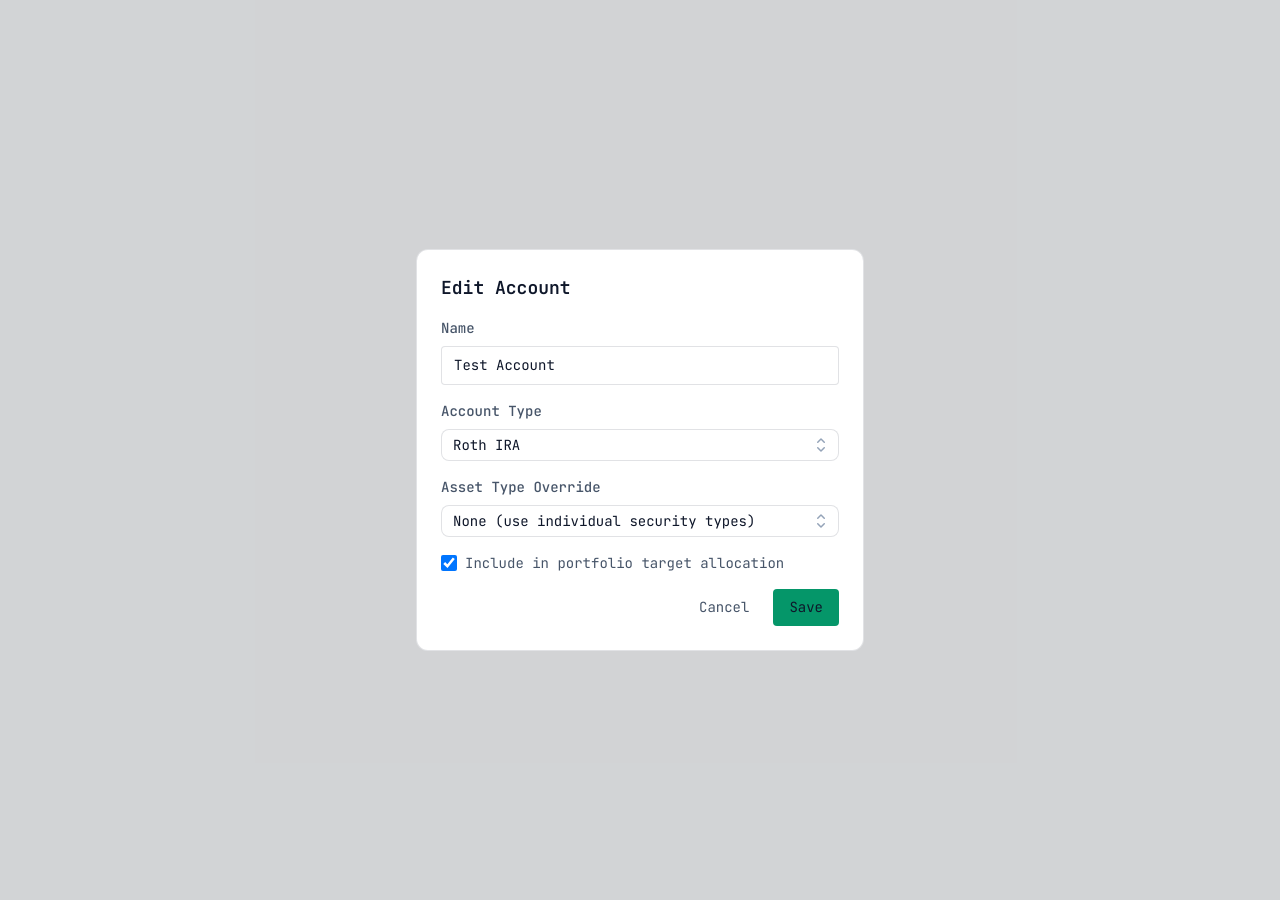
Test case: EditAccountDialog › shows error for empty name
Clear the field with test id "edit-account-name": (640, 366) [441, 346, 839, 385]
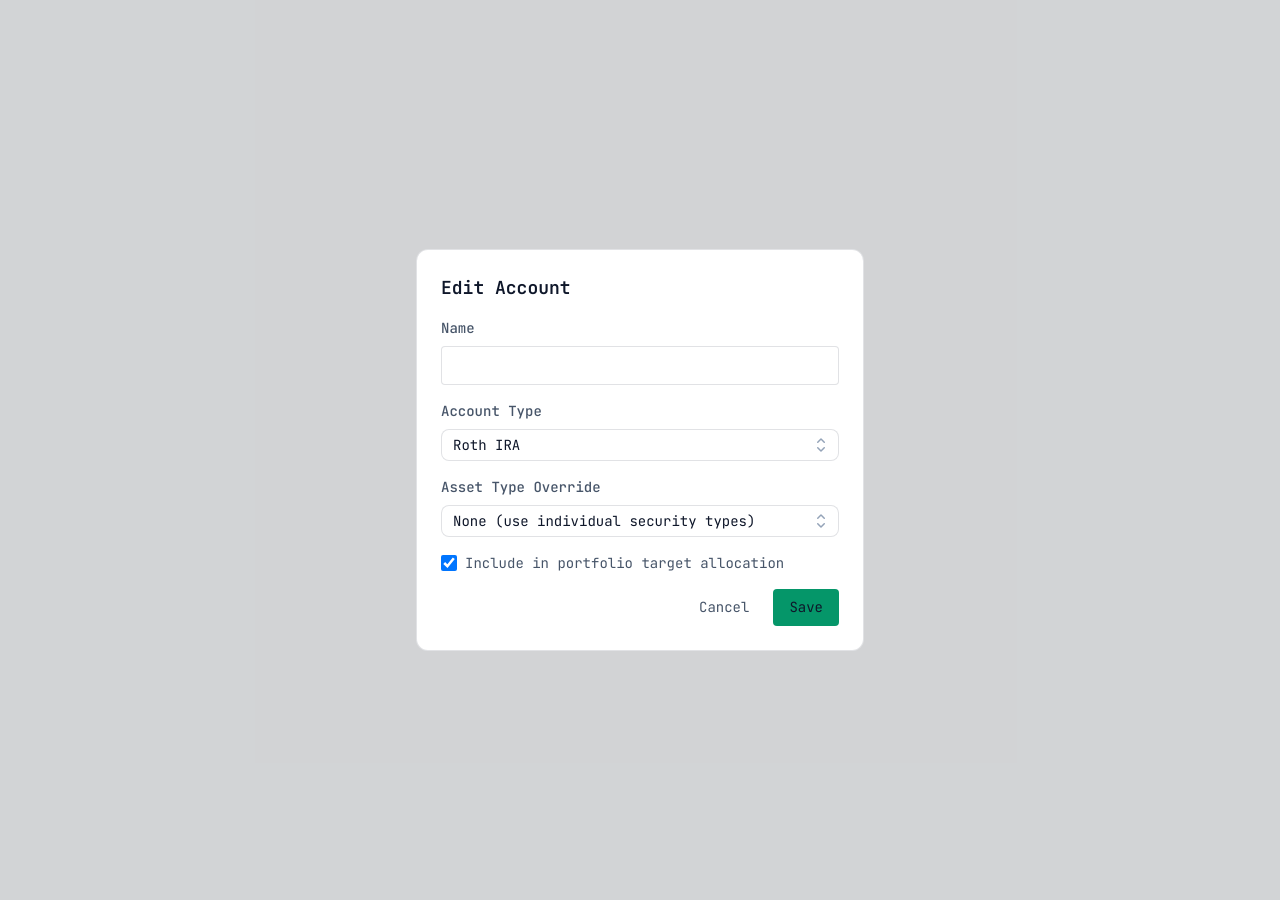
Click the button with test id "edit-account-save": (806, 608) [773, 589, 839, 626]
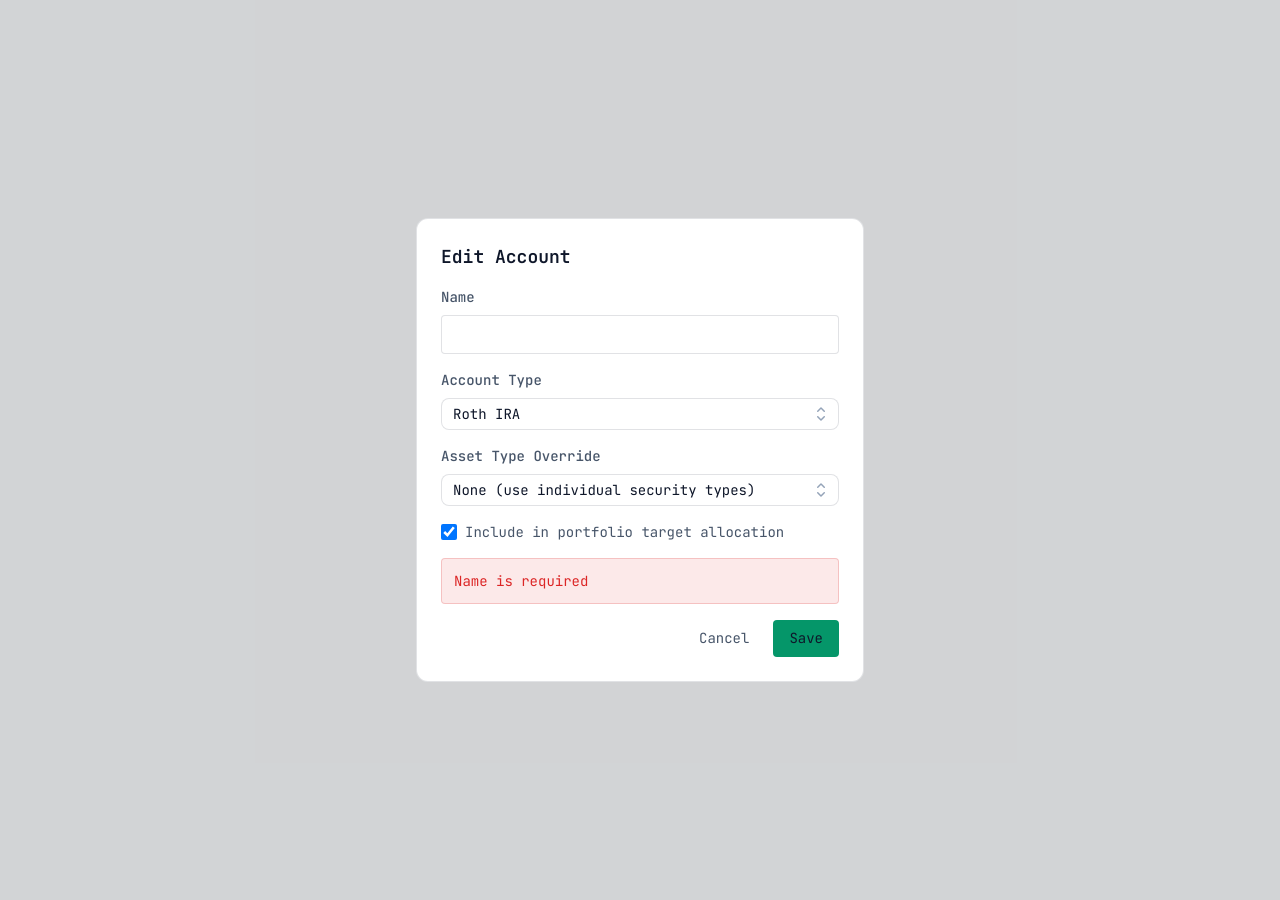
Now the text "Name is required" is shown, box [441, 558, 839, 604]
